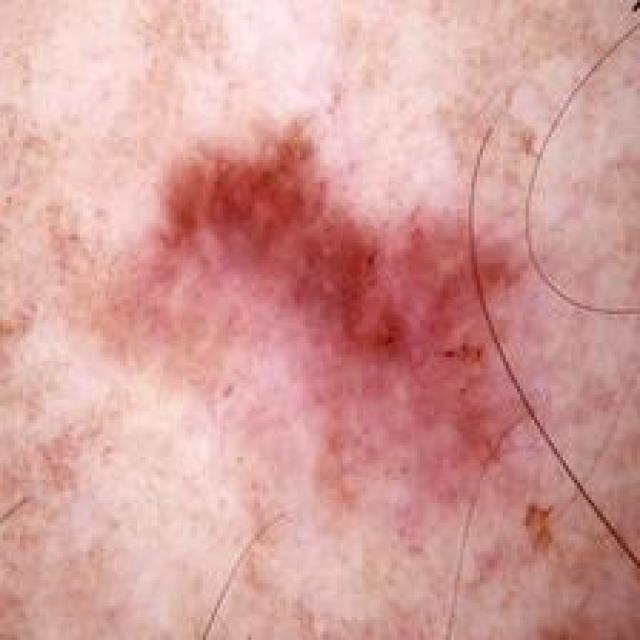Cancer: (94, 135, 520, 491)
